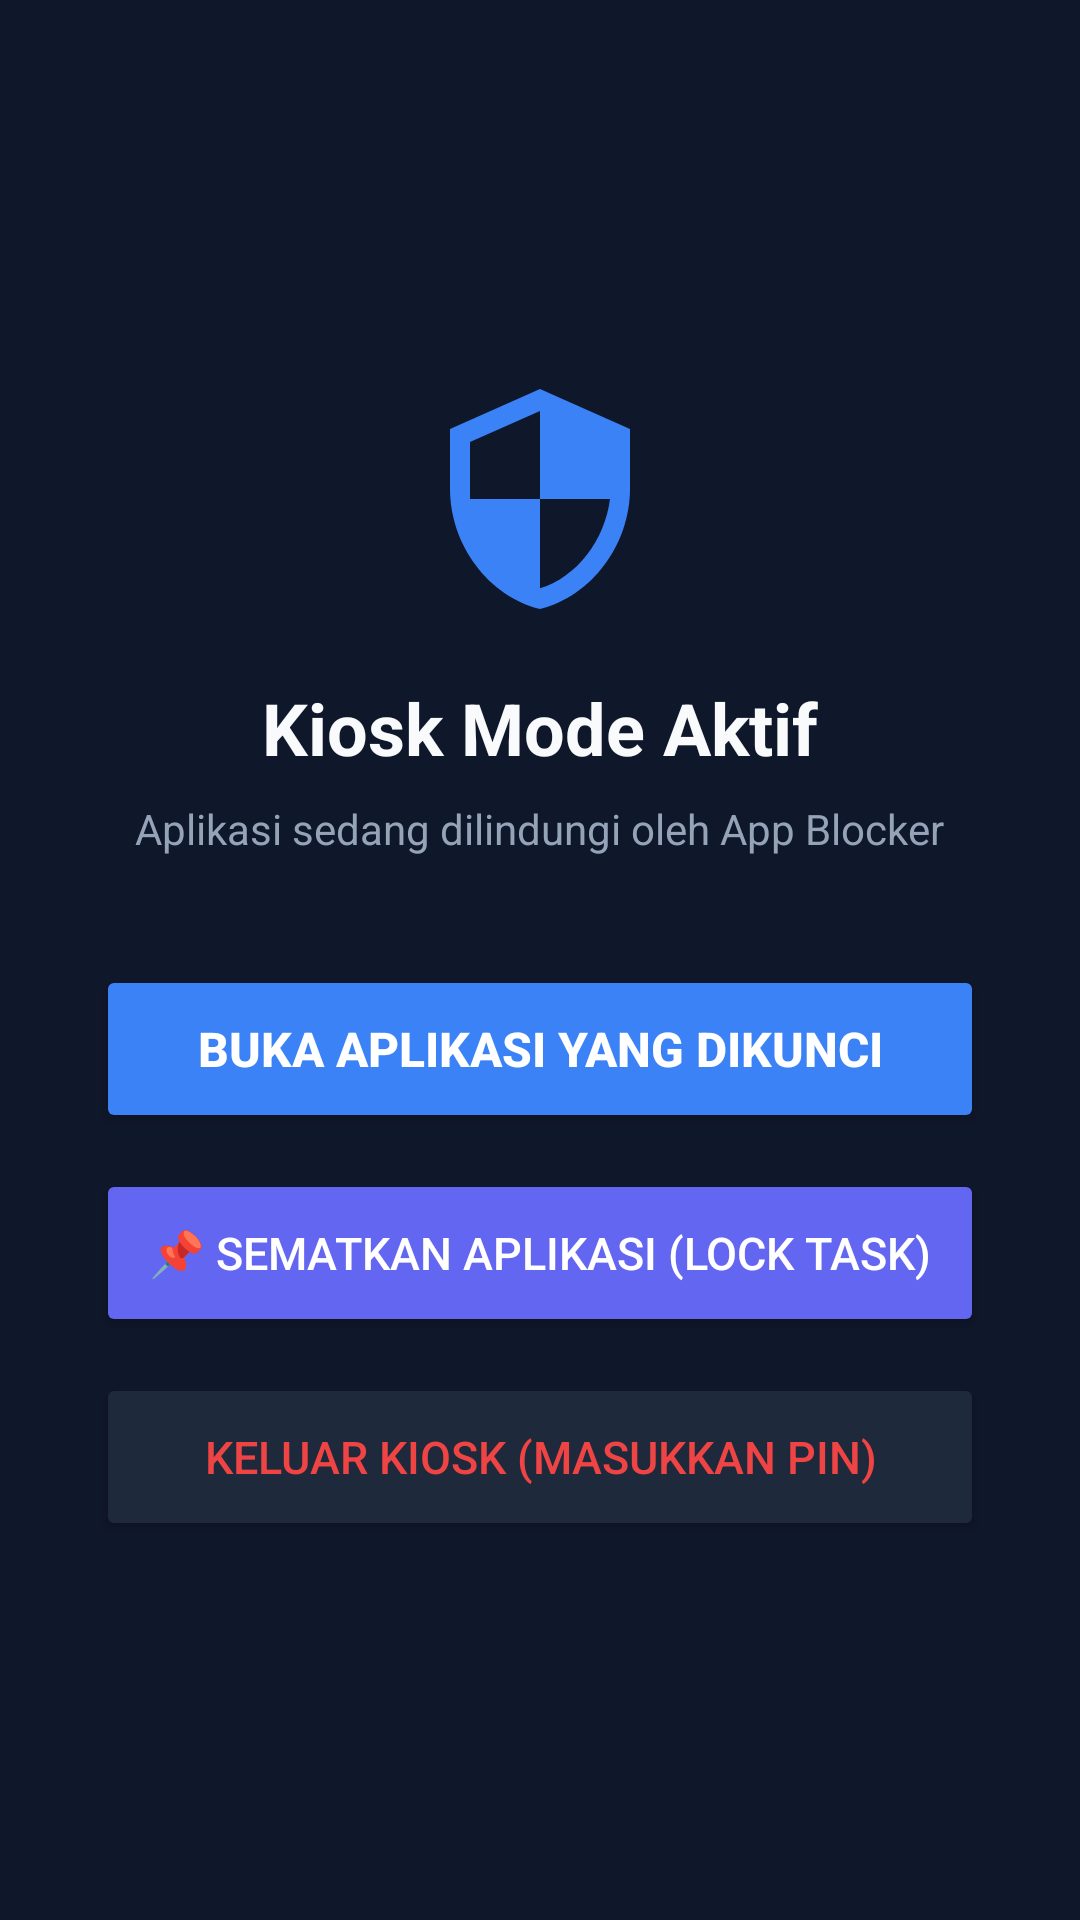

Icons on this 1080px x 1920px Android screen, each with the point to tap as (x=x, y=y):
Kiosk Guard Shield: (x=540, y=499)
